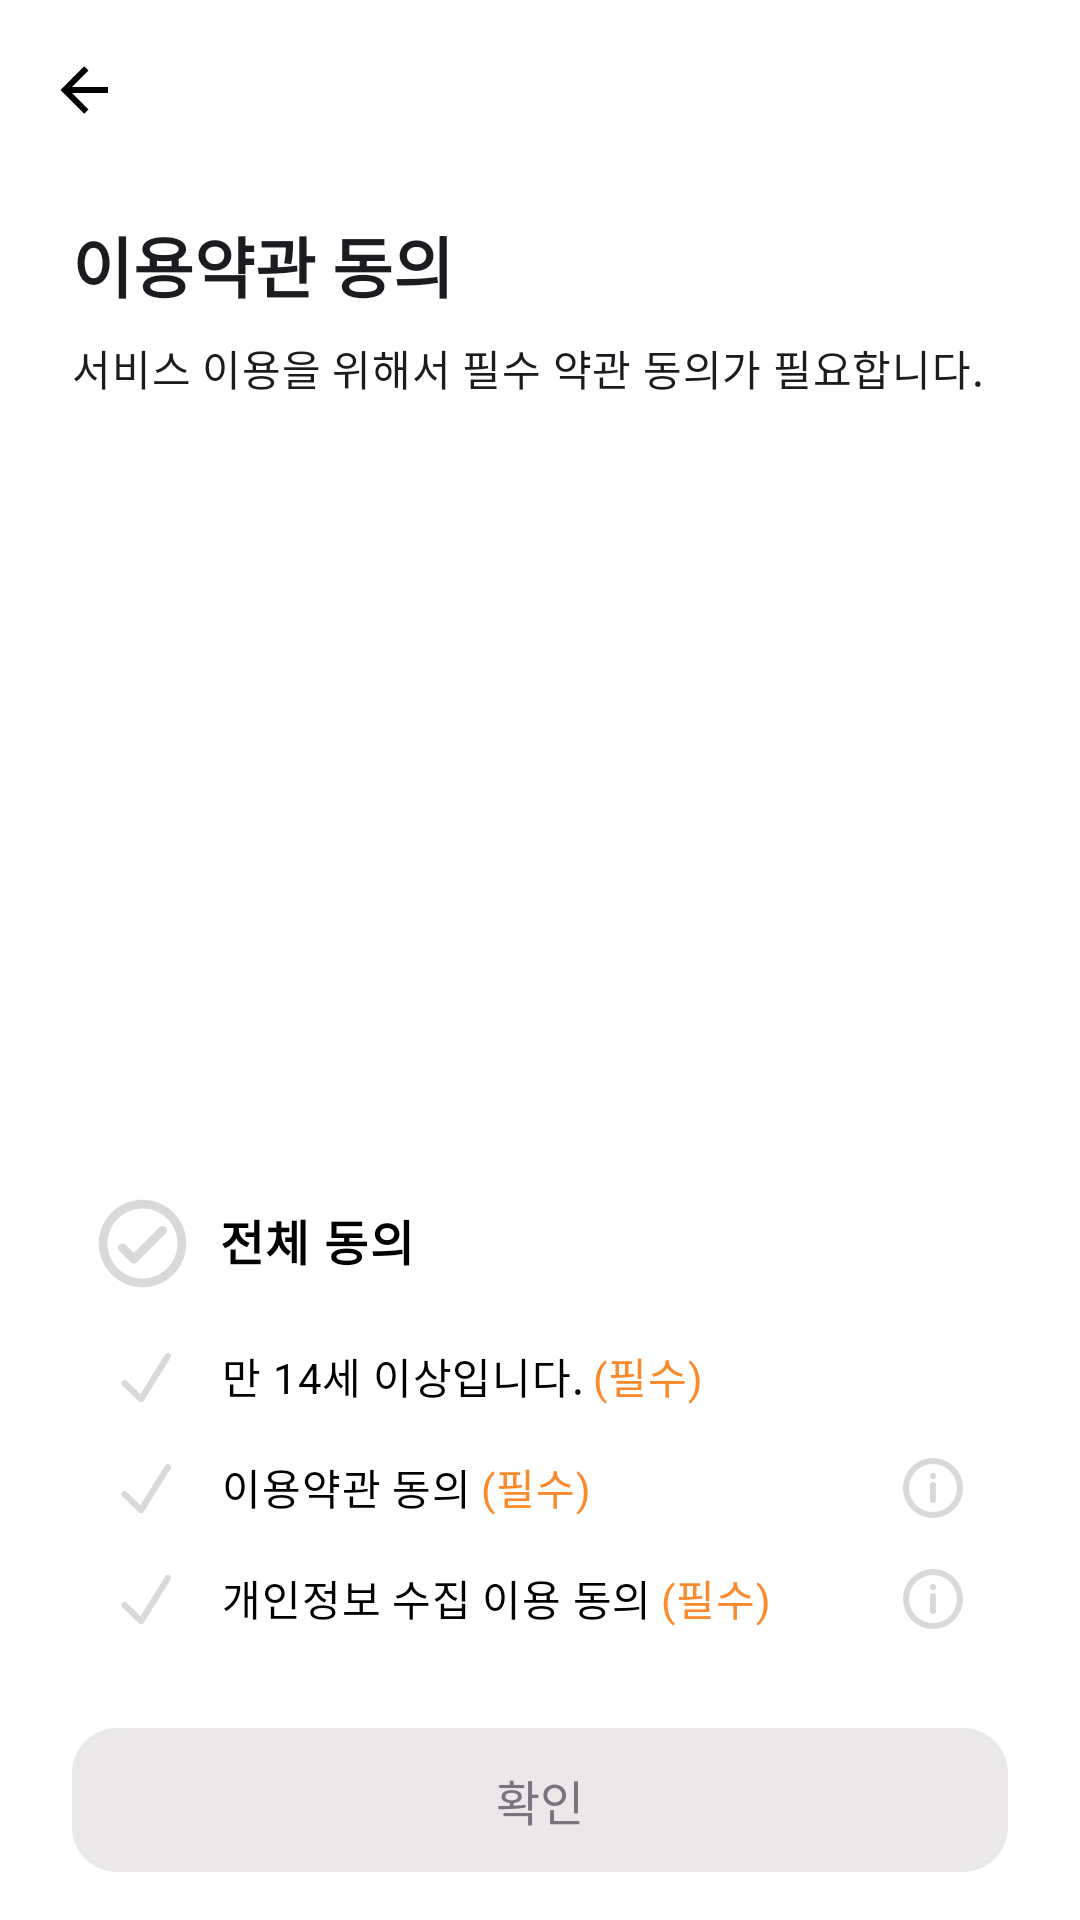

Screen size 1080 × 1920. Icon name, then its box in pixels as (x1, y1, x2, y2):
개인정보 수집 안내 버튼: (903, 1569, 963, 1629)
이용약관 안내 버튼: (903, 1458, 963, 1518)
